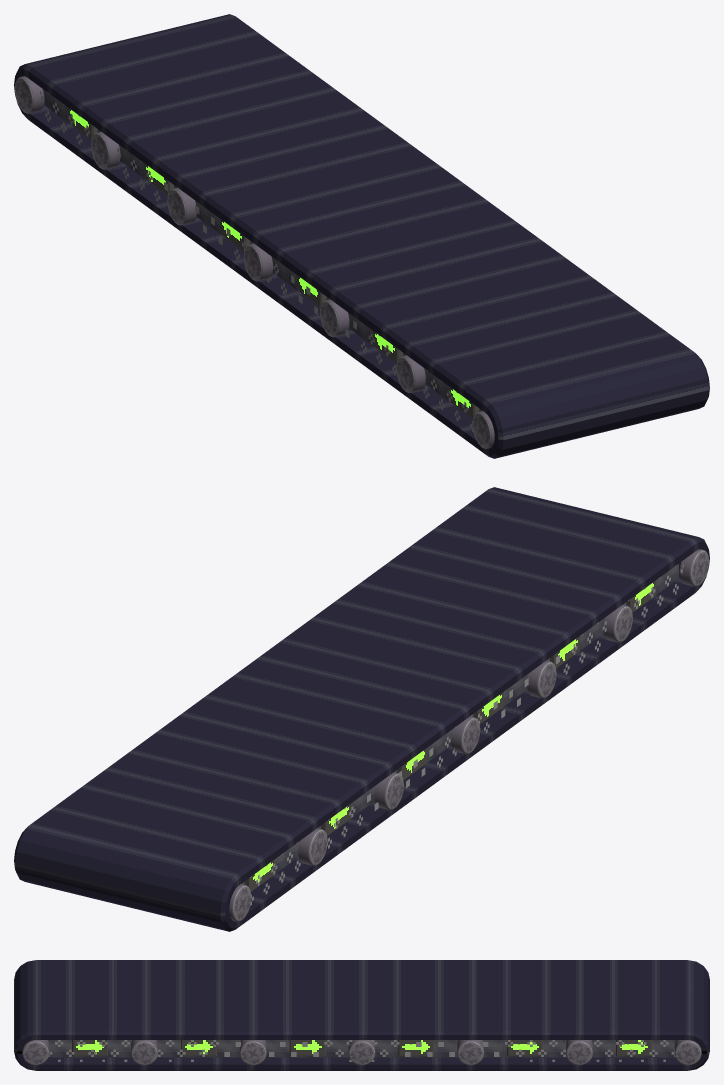
File: conveyor_belt.glb
3 renders of one model, top to bottom at view 1: azimuth 30°, elevation 25°; view 2: azimuth 150°, elevation 25°; view 3: azimuth 270°, elevation 25°, orthographic. The views are drawn at different scales.
Visible parts, largest first — view 1: conveyor_belt, conveyor_arrow, conveyor_core, conveyor_metal_grid, conveyor_circle_2, conveyor_circle_4, conveyor_circle_5, conveyor_circle_7, conveyor_circle_3, conveyor_circle_6; view 2: conveyor_belt, conveyor_arrow, conveyor_core, conveyor_metal_grid, conveyor_circle_6, conveyor_circle_3, conveyor_circle_4, conveyor_circle_1, conveyor_circle_2, conveyor_circle_5; view 3: conveyor_belt, conveyor_core, conveyor_arrow, conveyor_metal_grid, conveyor_circle_3, conveyor_circle_5, conveyor_circle_2, conveyor_circle_6, conveyor_circle_4, conveyor_circle_1, conveyor_circle_7.
Boxes of the visible parts, x1,y1,x2,y2 form: conveyor_belt: [14, 14, 709, 458]; conveyor_arrow: [67, 107, 479, 418]; conveyor_core: [45, 91, 482, 411]; conveyor_metal_grid: [40, 91, 473, 432]; conveyor_circle_2: [396, 355, 425, 392]; conveyor_circle_4: [243, 243, 272, 281]; conveyor_circle_5: [167, 187, 196, 225]; conveyor_circle_7: [14, 76, 44, 113]; conveyor_circle_3: [320, 299, 349, 337]; conveyor_circle_6: [91, 132, 120, 169]; conveyor_belt: [14, 487, 709, 931]; conveyor_arrow: [244, 580, 656, 891]; conveyor_core: [241, 564, 678, 884]; conveyor_metal_grid: [250, 564, 683, 905]; conveyor_circle_6: [298, 828, 327, 865]; conveyor_circle_3: [527, 660, 556, 698]; conveyor_circle_4: [451, 716, 480, 754]; conveyor_circle_1: [679, 549, 709, 586]; conveyor_circle_2: [603, 605, 632, 642]; conveyor_circle_5: [374, 772, 403, 810]; conveyor_belt: [14, 960, 709, 1070]; conveyor_core: [48, 1040, 675, 1057]; conveyor_arrow: [72, 1040, 651, 1056]; conveyor_metal_grid: [48, 1040, 675, 1061]; conveyor_circle_3: [239, 1040, 266, 1065]; conveyor_circle_5: [457, 1040, 484, 1065]; conveyor_circle_2: [131, 1040, 157, 1065]; conveyor_circle_6: [566, 1040, 592, 1065]; conveyor_circle_4: [348, 1040, 375, 1065]; conveyor_circle_1: [22, 1040, 49, 1065]; conveyor_circle_7: [674, 1040, 701, 1065].
Size of the model in its own units: 2.07 by 0.5 by 8.
Materials: 5 (5 with a texture image).
